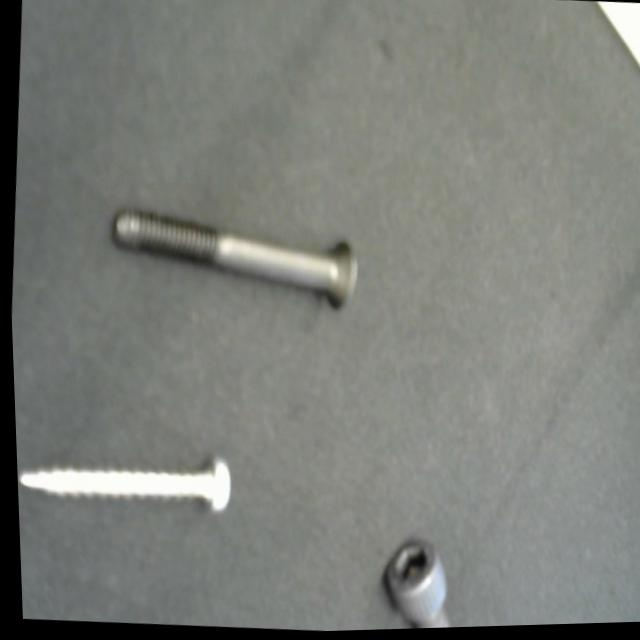FlatHeadSocketScrew: (91, 177, 377, 340)
SheetMetalScrew: (12, 419, 244, 540)
SocketHeadCapScrew: (373, 537, 467, 632)
